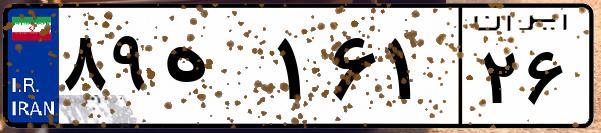1: (270, 28, 330, 110), (385, 28, 445, 110)
2: (475, 38, 525, 113)
6: (330, 28, 385, 110), (525, 38, 570, 115)
8: (57, 26, 110, 100)
9: (110, 28, 158, 98)
ه: (158, 20, 270, 120)
